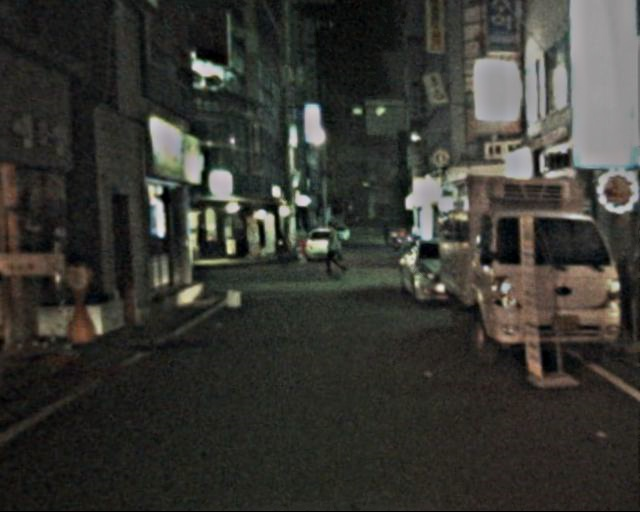person: (319, 222, 349, 281)
